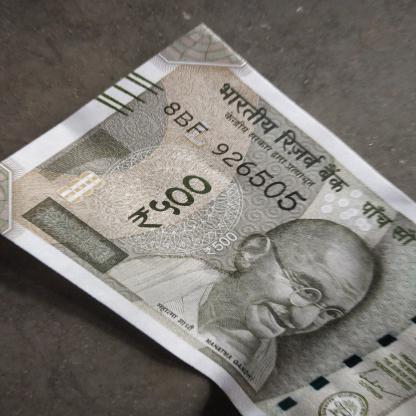New500Front: (26, 22, 415, 415)
